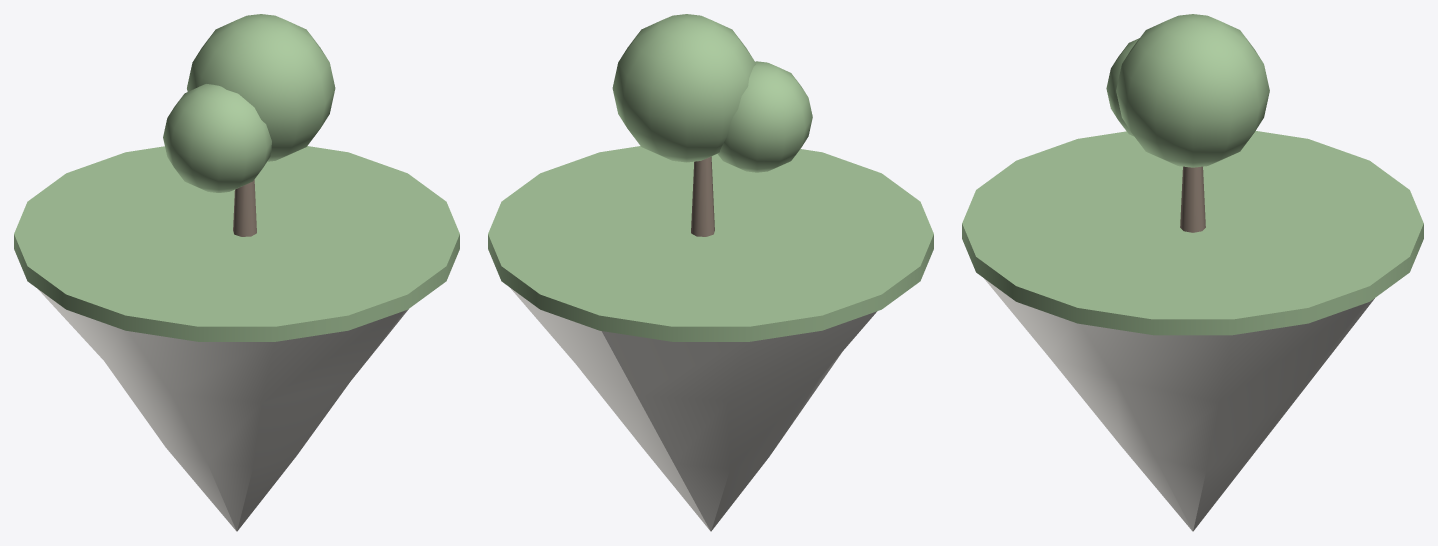
Rendered from floating_isle.glb.
3 renders of one model, left to right at view 1: azimuth 30°, elevation 25°; view 2: azimuth 150°, elevation 25°; view 3: azimuth 270°, elevation 25°, orthographic. The views are drawn at different scales.
Parts seen in each view (by area): view 1: turf, rock, tree, trunk; view 2: turf, rock, tree, trunk; view 3: turf, rock, tree, trunk.
Part boxes in pixels (<box>): turf: <box>14,146,459,341</box>; rock: <box>38,289,408,531</box>; tree: <box>163,14,335,192</box>; trunk: <box>233,179,256,236</box>; turf: <box>488,146,933,341</box>; rock: <box>510,288,876,531</box>; tree: <box>612,14,812,172</box>; trunk: <box>691,156,714,236</box>; turf: <box>962,131,1423,335</box>; rock: <box>984,278,1374,531</box>; tree: <box>1106,14,1269,167</box>; trunk: <box>1180,166,1205,232</box>.
Bounding box in the file's own units: 4.73 × 6 × 4.8.
